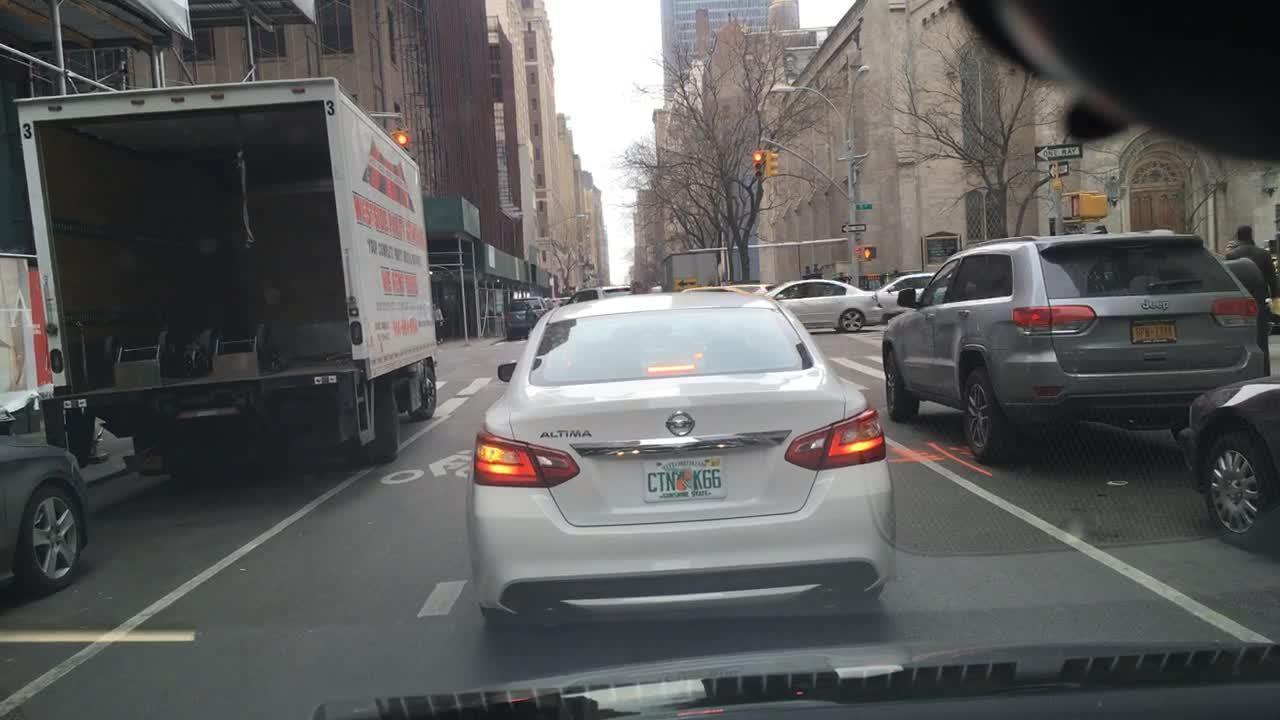Nissan: (654, 394, 707, 457)
jeep: (1132, 291, 1181, 316)
